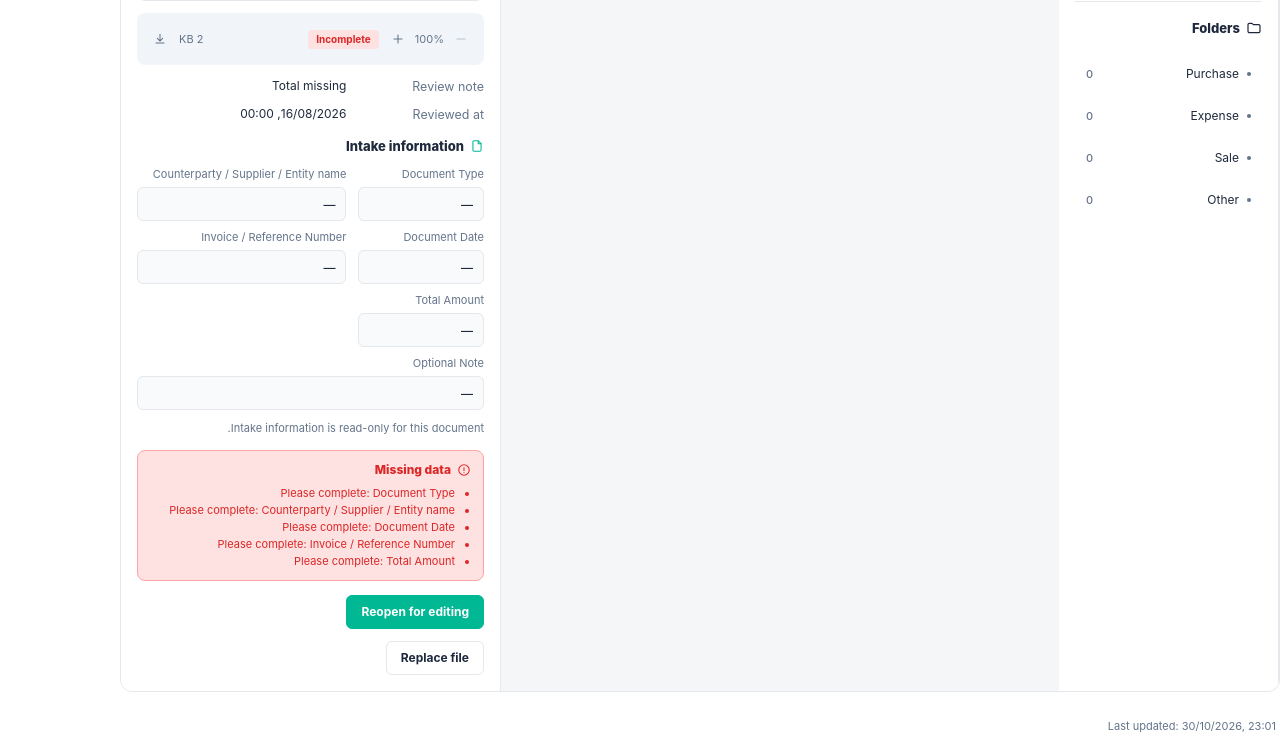
Scenario: Documents › incomplete document recovery › shows the actionable stale-revision message on a 409
(page scrolled)
Click the button "Reopen for editing" at point(415, 612), box [346,595,484,629]
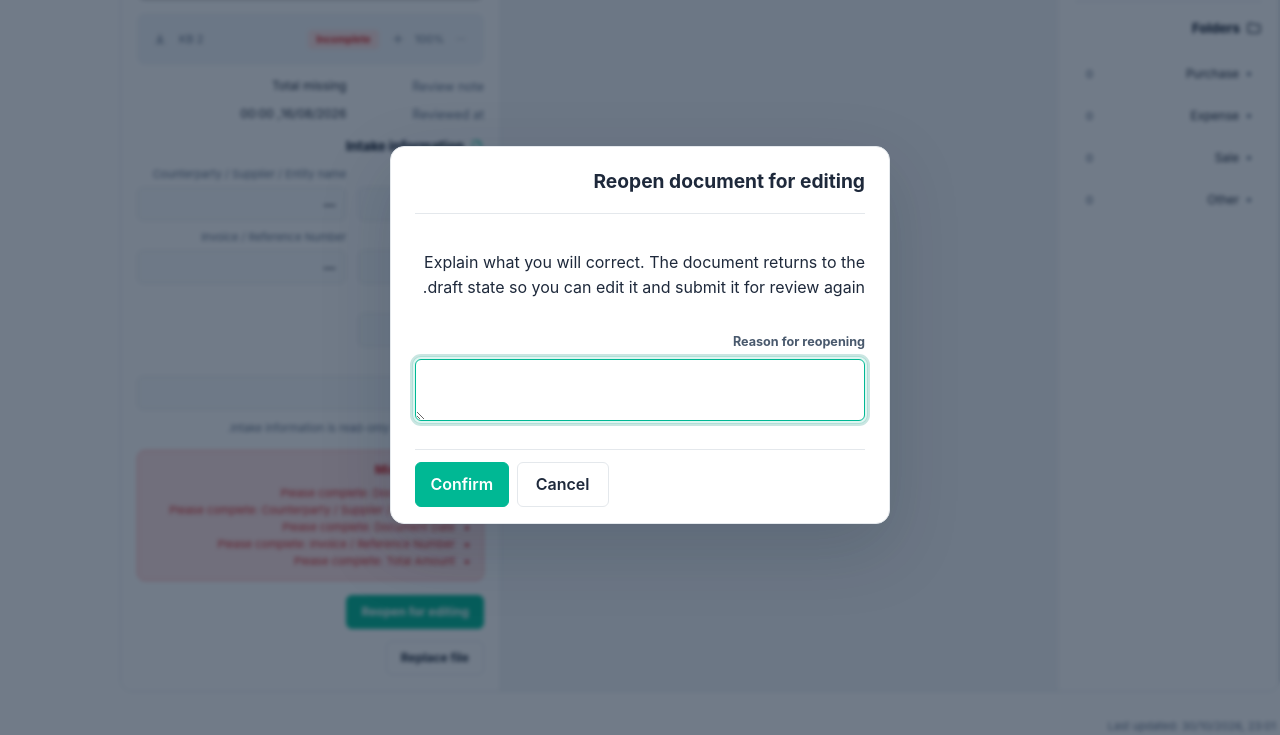
Type "again" into the text box labelled "Reason for reopening" at point(640, 390), box [415,359,865,421]
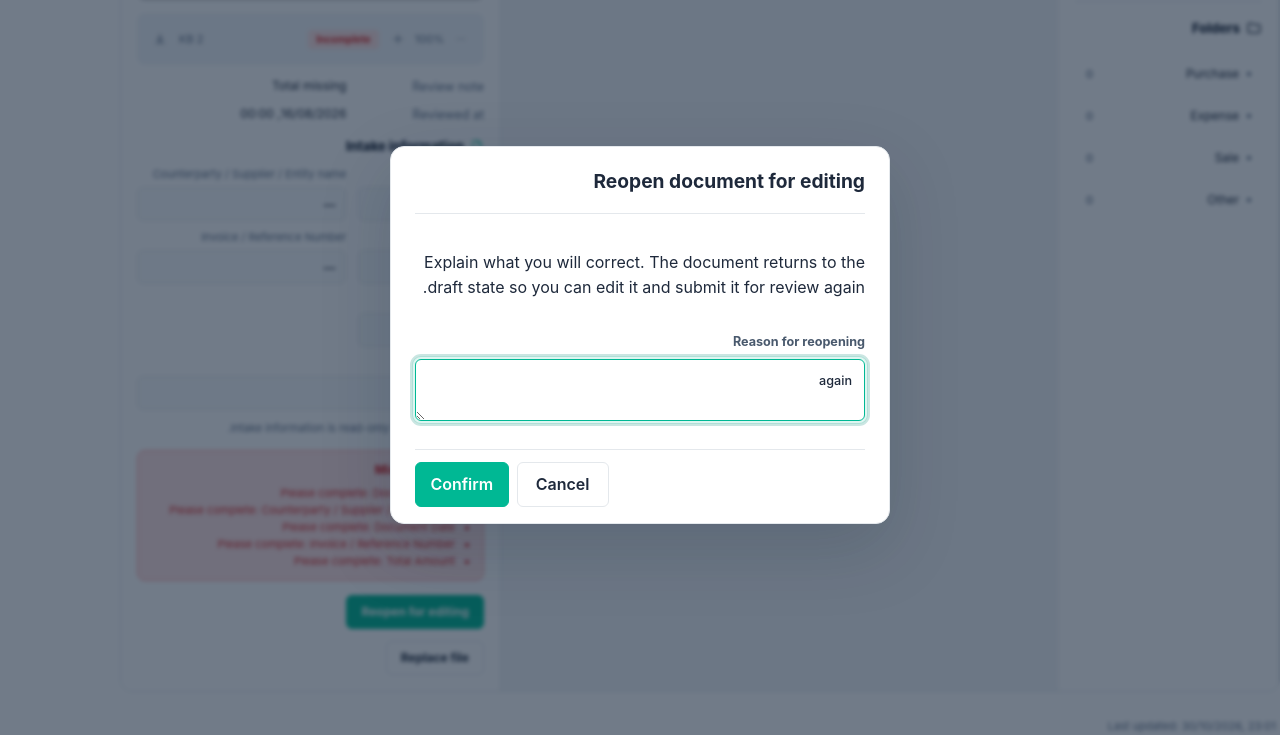
Submit the form named "Confirm", box [415,234,865,523]
(page scrolled)
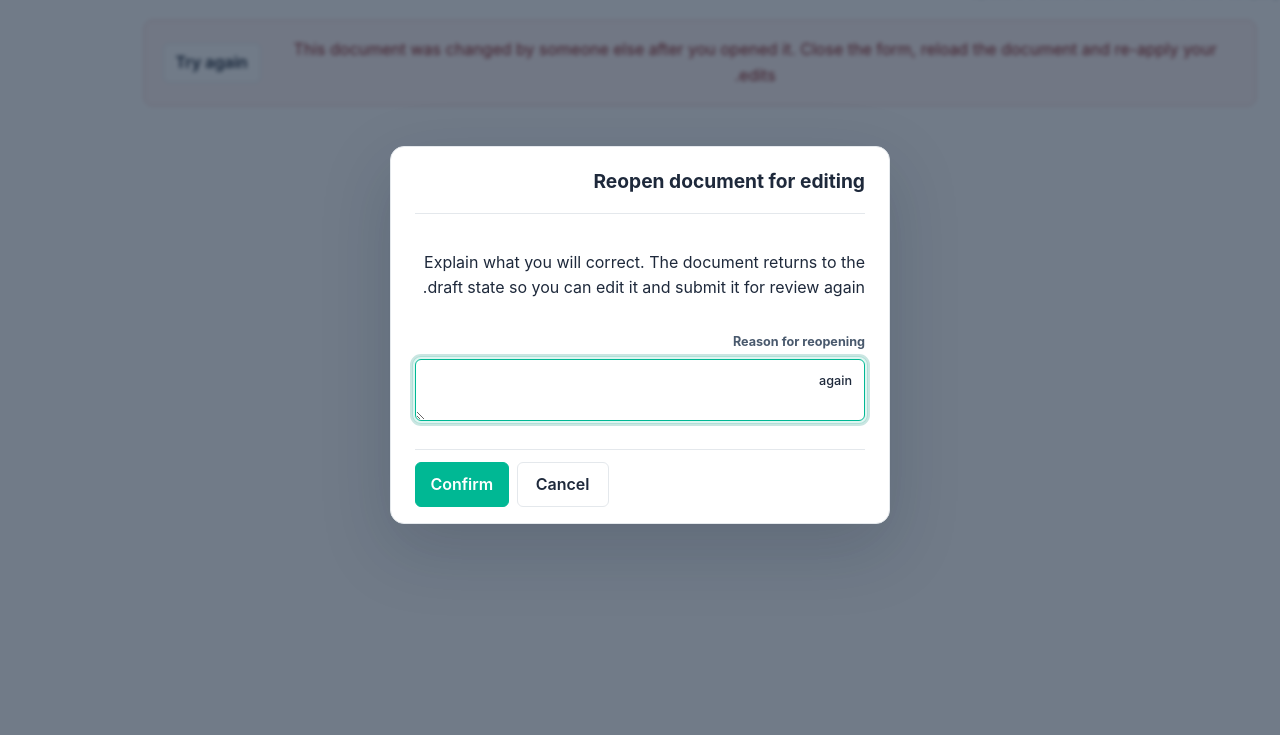
Expected: the text "changed by someone else" is shown, [293,40,1217,85]
